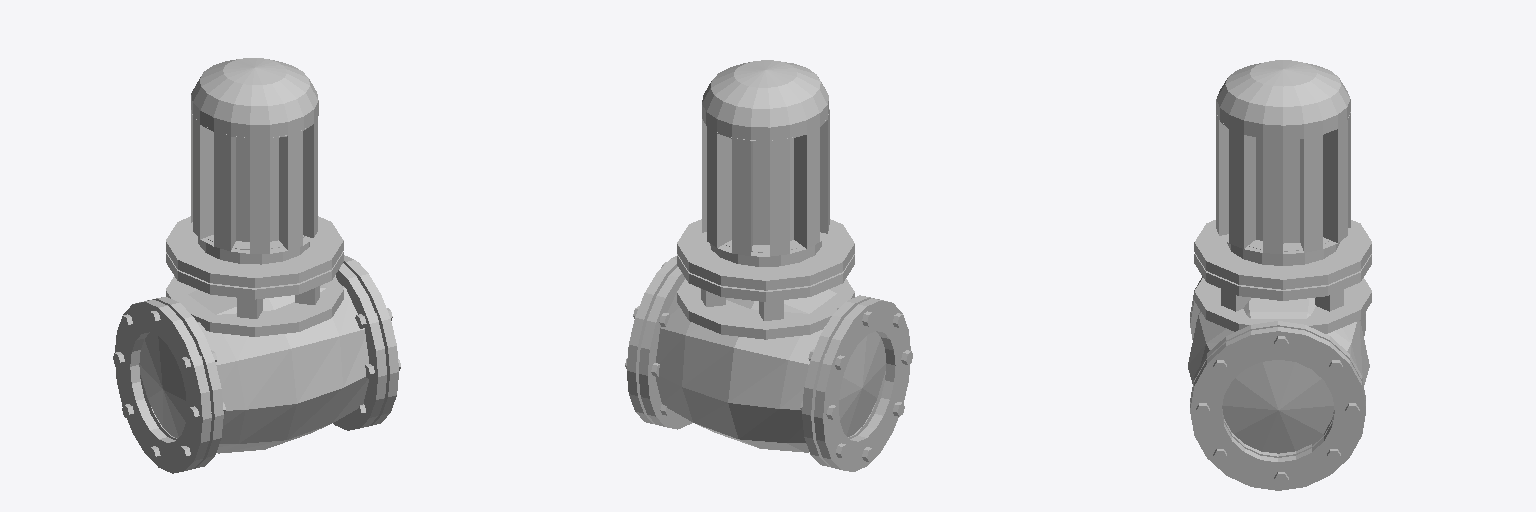
Rendered from reciprocating_pump.obj.
The picture shows the model from 3 angles: view 1: azimuth 30°, elevation 25°; view 2: azimuth 150°, elevation 25°; view 3: azimuth 270°, elevation 25°; orthographic projection.
Parts seen in each view (by area): view 1: __, __.7, __.4, __.6, __.1, __.2, __.5, ___1; view 2: __, __.7, __.4, __.6, __.1, __.2, __.5, ___1; view 3: __.4, __.2, __, __.7, __.6, __.1, __.5, ___2.
Part boxes in pixels (x1,y1,x2,y2): __: (115, 58, 386, 473); __.7: (139, 284, 368, 453); __.4: (191, 110, 317, 253); __.6: (166, 216, 343, 287); __.1: (115, 262, 400, 460); __.2: (140, 255, 398, 468); __.5: (198, 235, 309, 264); ___1: (113, 312, 369, 460); __: (639, 60, 910, 471); __.7: (656, 287, 885, 452); __.4: (702, 109, 829, 256); __.6: (677, 219, 854, 290); __.1: (625, 262, 910, 461); __.2: (627, 256, 885, 467); __.5: (710, 232, 821, 266); ___1: (656, 313, 912, 461); __.4: (1216, 112, 1350, 253); __.2: (1190, 301, 1365, 490); __: (1190, 60, 1371, 457); __.7: (1188, 289, 1369, 453); __.6: (1194, 220, 1371, 289); __.1: (1194, 278, 1371, 479); __.5: (1227, 237, 1339, 265); ___2: (1196, 339, 1359, 485).
Bounding box in the file's own units: 164 × 284 × 127.